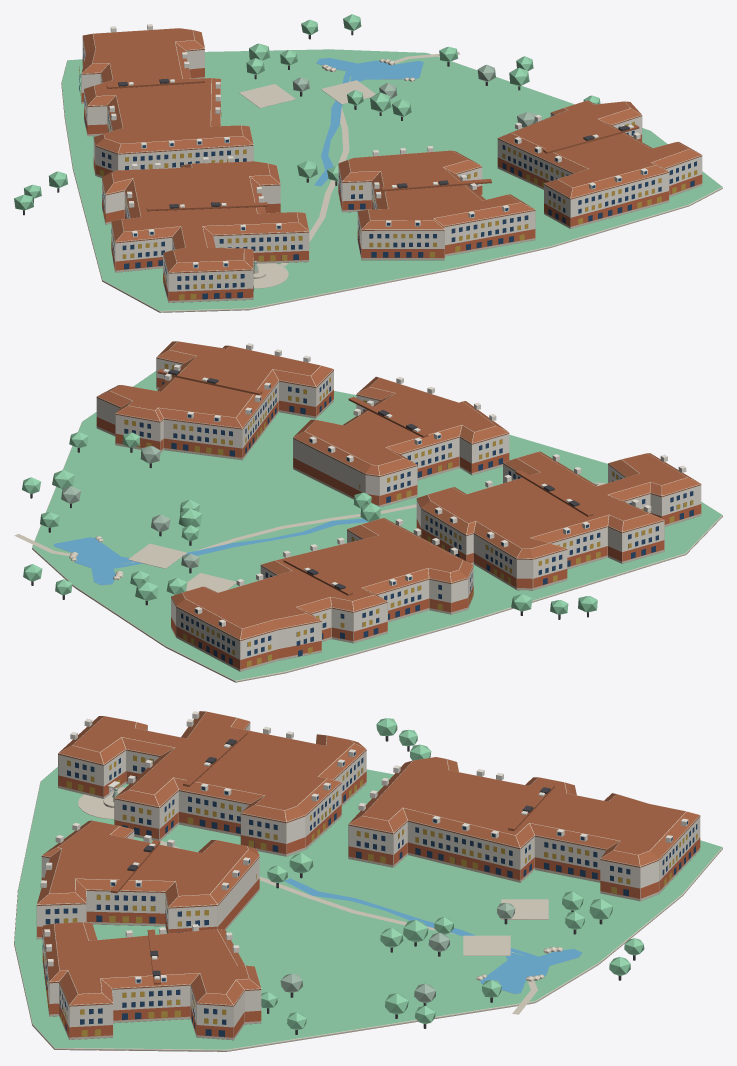
Rendered from mid.glb.
3 views of the same model, one above another, from view 1: azimuth 30°, elevation 25°; view 2: azimuth 150°, elevation 25°; view 3: azimuth 270°, elevation 25° (orthographic). The views are drawn at different scales.
Parts seen in each view (by area): view 1: grp_Toy_brick_Toy_cream_Toy_rust_Toy_stone_Toy_trim, ground, grp_Toy_glass, grp_Toy_mint, grp_Toy_stone, grp_Toy_gold_Glow, grp_Toy_cream, grp_Toy_rust, lagoon_water, grp_Toy_verdigris, grp_Toy_sky, grp_Toy_roofd; view 2: grp_Toy_brick_Toy_cream_Toy_rust_Toy_stone_Toy_trim, ground, grp_Toy_mint, grp_Toy_glass, grp_Toy_stone, grp_Toy_gold_Glow, grp_Toy_cream, grp_Toy_rust, lagoon_water, grp_Toy_verdigris, grp_Toy_sky, grp_Toy_roofd; view 3: grp_Toy_brick_Toy_cream_Toy_rust_Toy_stone_Toy_trim, ground, grp_Toy_mint, grp_Toy_glass, grp_Toy_stone, grp_Toy_gold_Glow, grp_Toy_cream, lagoon_water, grp_Toy_rust, grp_Toy_verdigris, grp_Toy_sky, grp_Toy_roofd.
Boxes of the visible parts, x1,y1,x2,y2 form: grp_Toy_brick_Toy_cream_Toy_rust_Toy_stone_Toy_trim: [81, 28, 702, 302]; ground: [61, 49, 722, 312]; grp_Toy_glass: [79, 48, 696, 299]; grp_Toy_mint: [14, 14, 600, 210]; grp_Toy_stone: [239, 52, 460, 288]; grp_Toy_gold_Glow: [79, 45, 697, 300]; grp_Toy_cream: [109, 24, 647, 268]; grp_Toy_rust: [106, 78, 639, 211]; lagoon_water: [316, 58, 423, 81]; grp_Toy_verdigris: [253, 64, 536, 270]; grp_Toy_sky: [314, 71, 350, 186]; grp_Toy_roofd: [23, 31, 629, 215]; grp_Toy_brick_Toy_cream_Toy_rust_Toy_stone_Toy_trim: [96, 341, 701, 671]; ground: [32, 371, 722, 682]; grp_Toy_mint: [22, 432, 597, 614]; grp_Toy_glass: [124, 375, 693, 664]; grp_Toy_stone: [14, 482, 606, 592]; grp_Toy_gold_Glow: [124, 363, 693, 667]; grp_Toy_cream: [165, 343, 686, 626]; grp_Toy_rust: [157, 369, 593, 595]; lagoon_water: [53, 537, 134, 585]; grp_Toy_verdigris: [61, 446, 597, 568]; grp_Toy_sky: [114, 518, 369, 568]; grp_Toy_roofd: [30, 369, 588, 619]; grp_Toy_brick_Toy_cream_Toy_rust_Toy_stone_Toy_trim: [36, 711, 700, 1040]; ground: [14, 767, 722, 1051]; grp_Toy_mint: [261, 718, 644, 1029]; grp_Toy_glass: [42, 752, 697, 1036]; grp_Toy_stone: [78, 787, 562, 1014]; grp_Toy_gold_Glow: [42, 755, 697, 1036]; grp_Toy_cream: [40, 711, 688, 983]; lagoon_water: [480, 949, 582, 994]; grp_Toy_rust: [110, 731, 554, 984]; grp_Toy_verdigris: [112, 787, 515, 1003]; grp_Toy_sky: [284, 878, 538, 956]; grp_Toy_roofd: [127, 736, 635, 1034].
Size of the model in its own units: 312 by 22 by 298.
